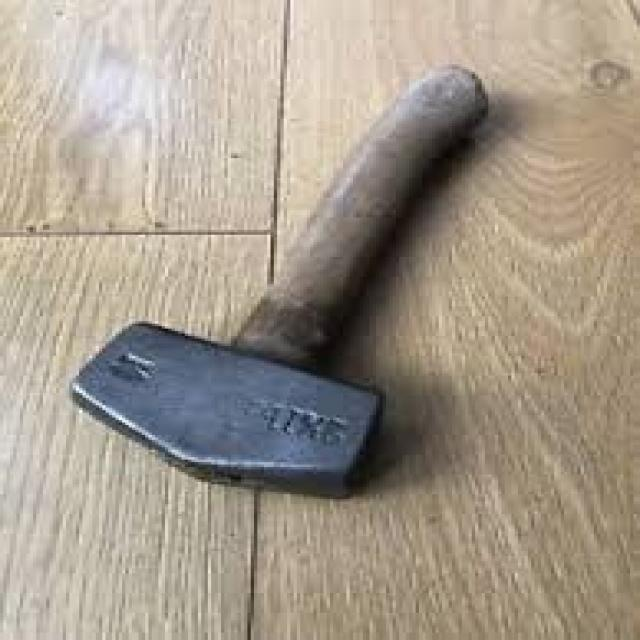hammer: (58, 59, 506, 504)
